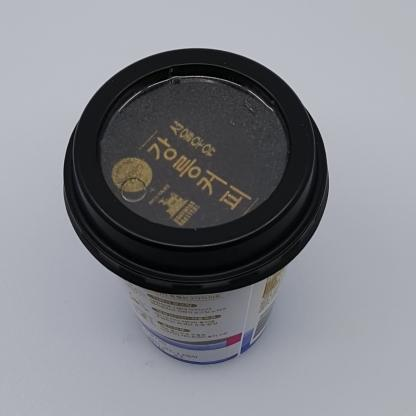----------250ML: (63, 49, 329, 365)
